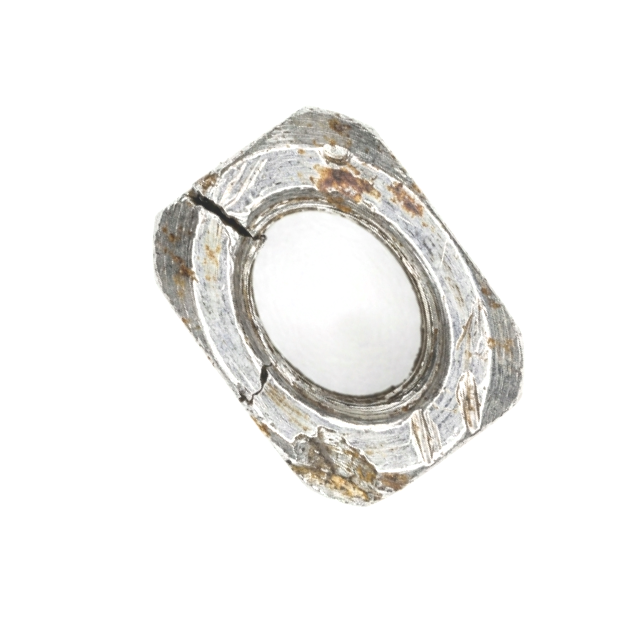defect: (275, 427, 406, 510), (173, 179, 274, 253), (234, 342, 289, 416), (403, 406, 446, 471), (453, 300, 499, 354), (311, 140, 364, 170), (463, 364, 480, 446)
